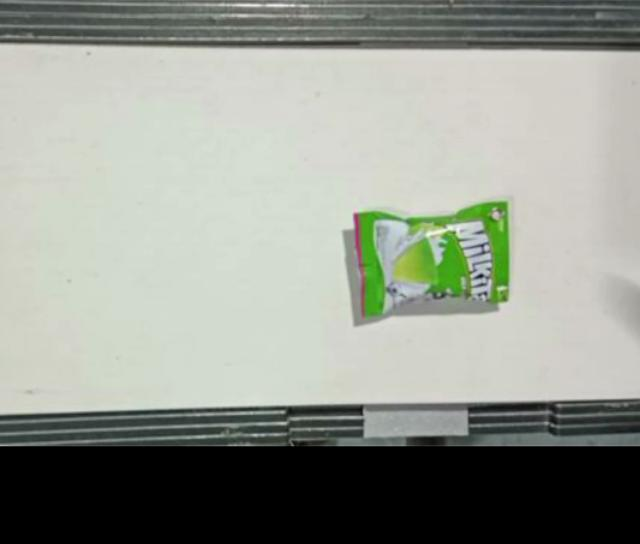Plastik: (355, 201, 510, 320)
